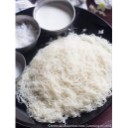idiyappam: (32, 41, 109, 112)
